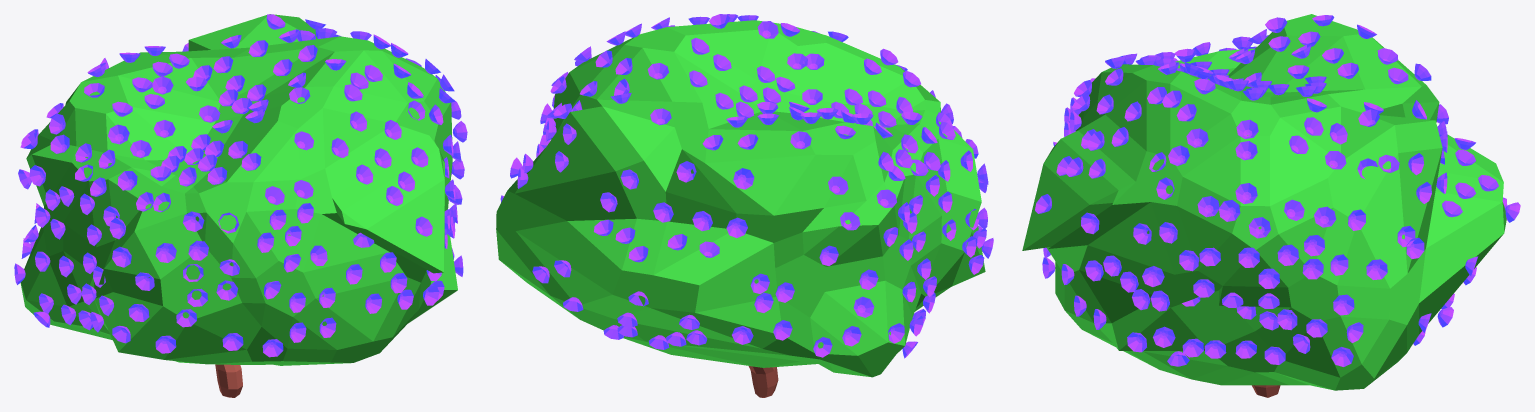
File: FlowerBushPurple.fbx
3 views of the same model, side by side, from view 1: azimuth 30°, elevation 25°; view 2: azimuth 150°, elevation 25°; view 3: azimuth 270°, elevation 25° (orthographic). The views are drawn at different scales.
Parts seen in each view (by area): view 1: Icosphere, Cube; view 2: Icosphere, Cube; view 3: Icosphere.
Part boxes in pixels (x1=…): Icosphere: x1=20, y1=14, x2=457, y2=365; Cube: x1=215, y1=364, x2=242, y2=397; Icosphere: x1=496, y1=20, x2=985, y2=377; Cube: x1=748, y1=366, x2=778, y2=397; Icosphere: x1=1022, y1=14, x2=1506, y2=390.
Size of the model in its own units: 349 by 283 by 362.
